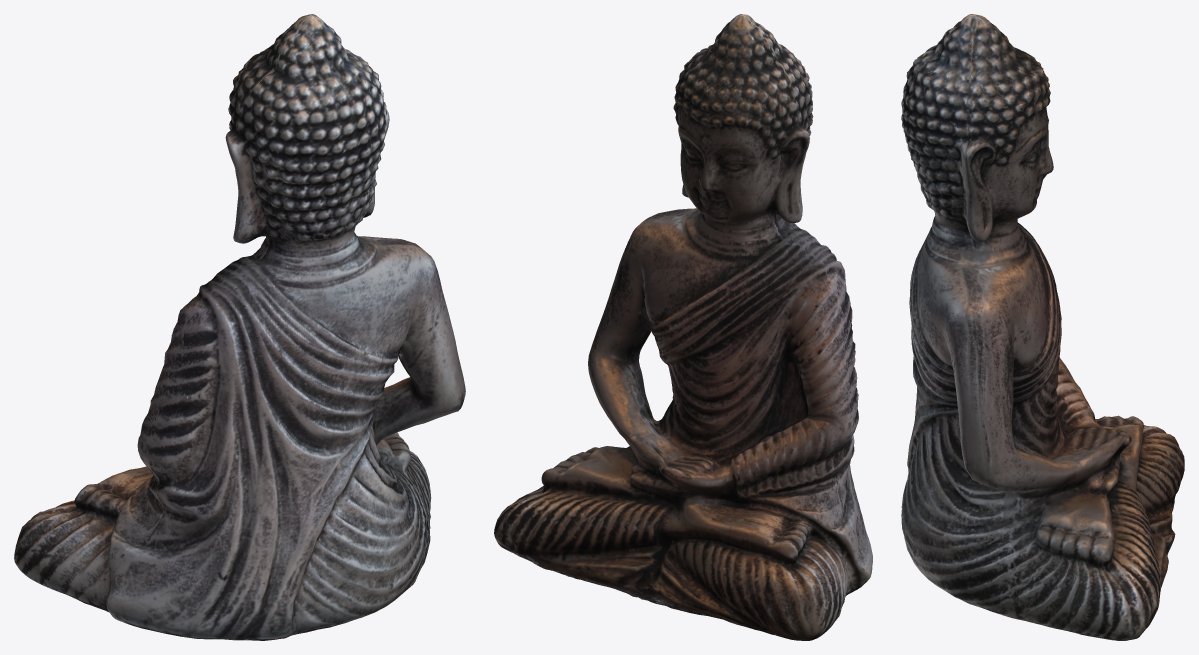
File: buddha.glb
3 renders of one model, left to right at view 1: azimuth 30°, elevation 25°; view 2: azimuth 150°, elevation 25°; view 3: azimuth 270°, elevation 25°, orthographic. The views are drawn at different scales.
Visible parts, largest first — view 1: LR_A1; view 2: LR_A1; view 3: LR_A1.
Part boxes in pixels (x1,y1,x2,y2): LR_A1: (14,14,465,640); LR_A1: (494,14,872,640); LR_A1: (901,14,1184,640).
Size of the model in its own units: 24.36 by 35.59 by 16.69.
Materials: 1 (1 with a texture image).
